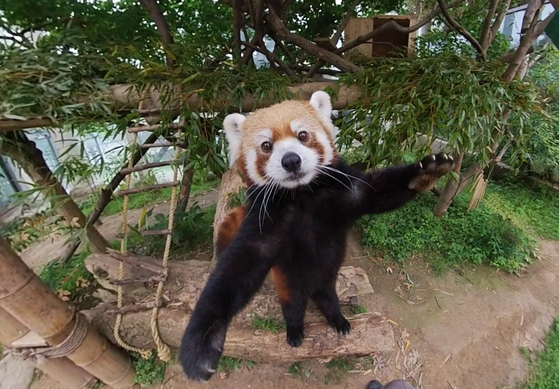redPanda: (170, 83, 466, 385)
